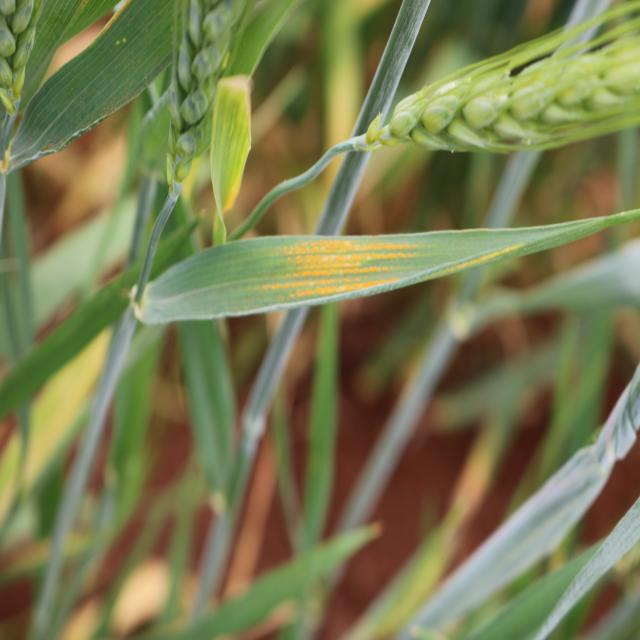Stripe Rust: (266, 238, 416, 303)
